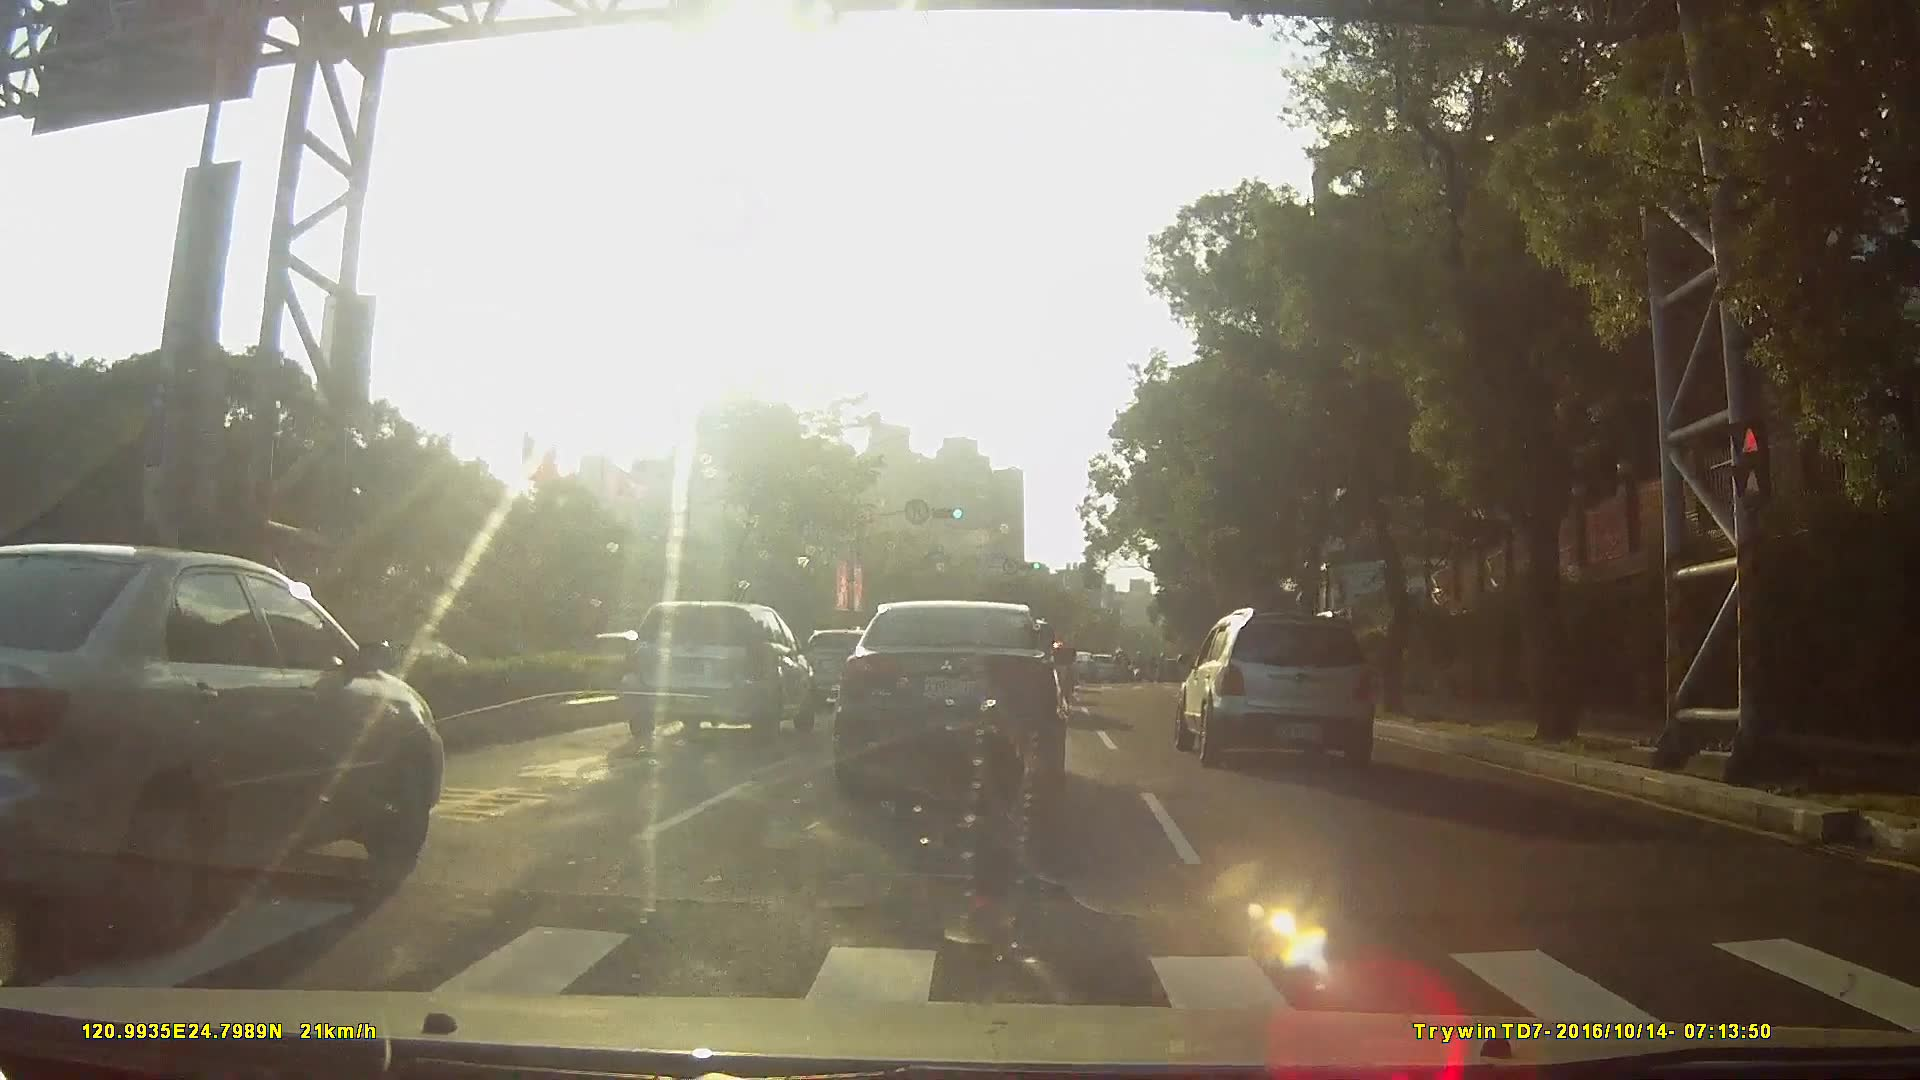vehicle: (1, 531, 458, 945), (836, 597, 1067, 808), (1168, 595, 1393, 769), (613, 599, 815, 742), (1060, 651, 1095, 687), (1079, 654, 1116, 684)
